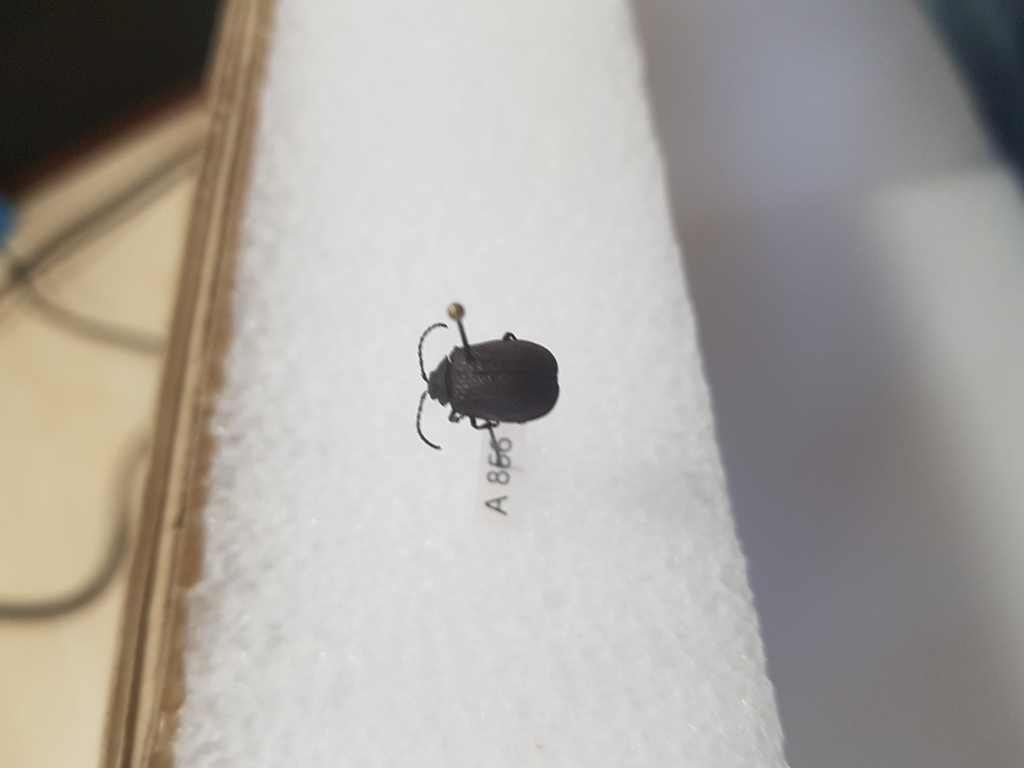Galeruca_tanaceti: (406, 316, 570, 453)
